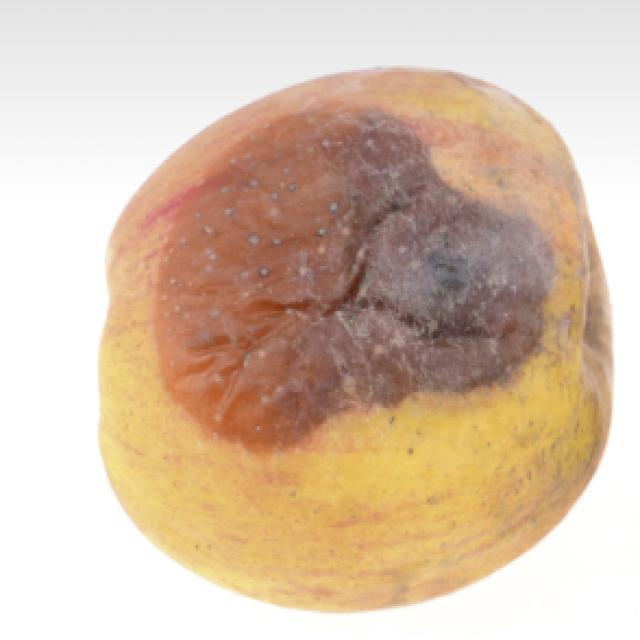Rotten: (97, 65, 605, 597)
